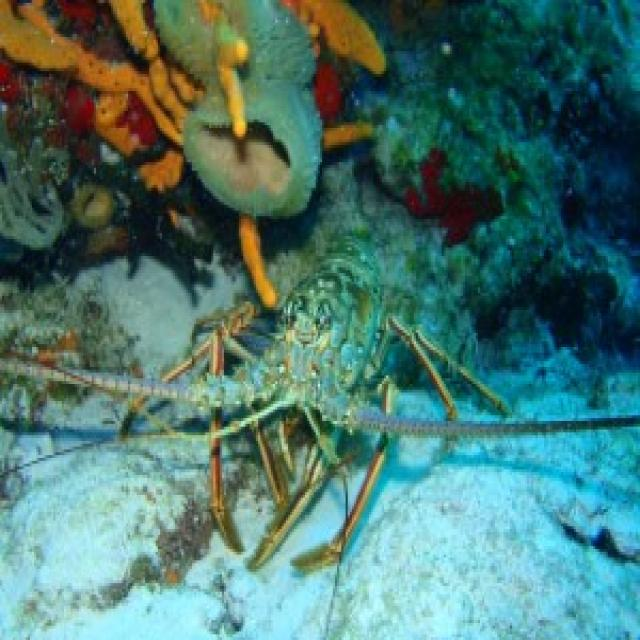lobsters: (115, 82, 590, 584)
